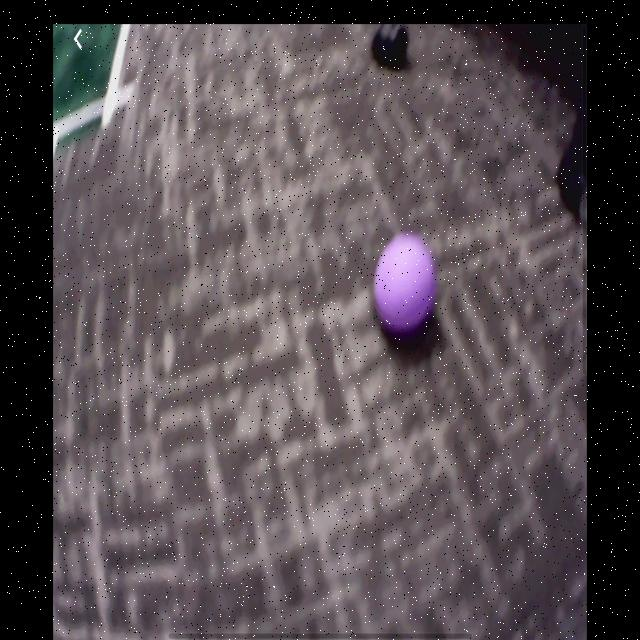ball: (373, 232, 438, 338)
